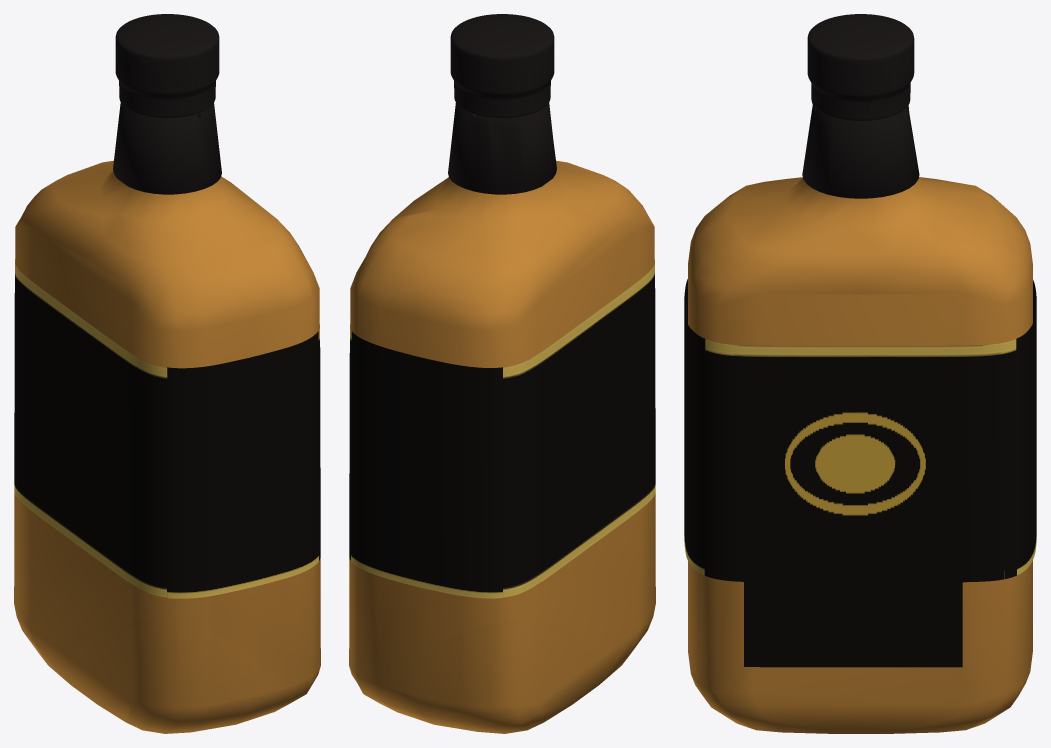
Rendered from drug_whiskey.glb.
3 views of the same model, side by side, from view 1: azimuth 30°, elevation 25°; view 2: azimuth 150°, elevation 25°; view 3: azimuth 270°, elevation 25° (orthographic). The views are drawn at different scales.
Parts seen in each view (by area): view 1: Object_10, Object_8, Object_6, Object_12; view 2: Object_10, Object_8, Object_6, Object_12; view 3: Object_8, Object_10, Object_6, Object_12.
Part boxes in pixels (x1=…): Object_10: x1=14, y1=160, x2=320, y2=733; Object_8: x1=14, y1=259, x2=320, y2=598; Object_6: x1=115, y1=14, x2=219, y2=118; Object_12: x1=113, y1=102, x2=221, y2=194; Object_10: x1=349, y1=160, x2=655, y2=733; Object_8: x1=349, y1=259, x2=655, y2=598; Object_6: x1=450, y1=14, x2=554, y2=118; Object_12: x1=448, y1=102, x2=556, y2=194; Object_8: x1=684, y1=279, x2=1036, y2=667; Object_10: x1=688, y1=177, x2=1032, y2=733; Object_6: x1=807, y1=14, x2=914, y2=120; Object_12: x1=802, y1=104, x2=919, y2=198.
Size of the model in its own units: 0.422 by 1.46 by 0.703.
3 materials, 1 textured.
